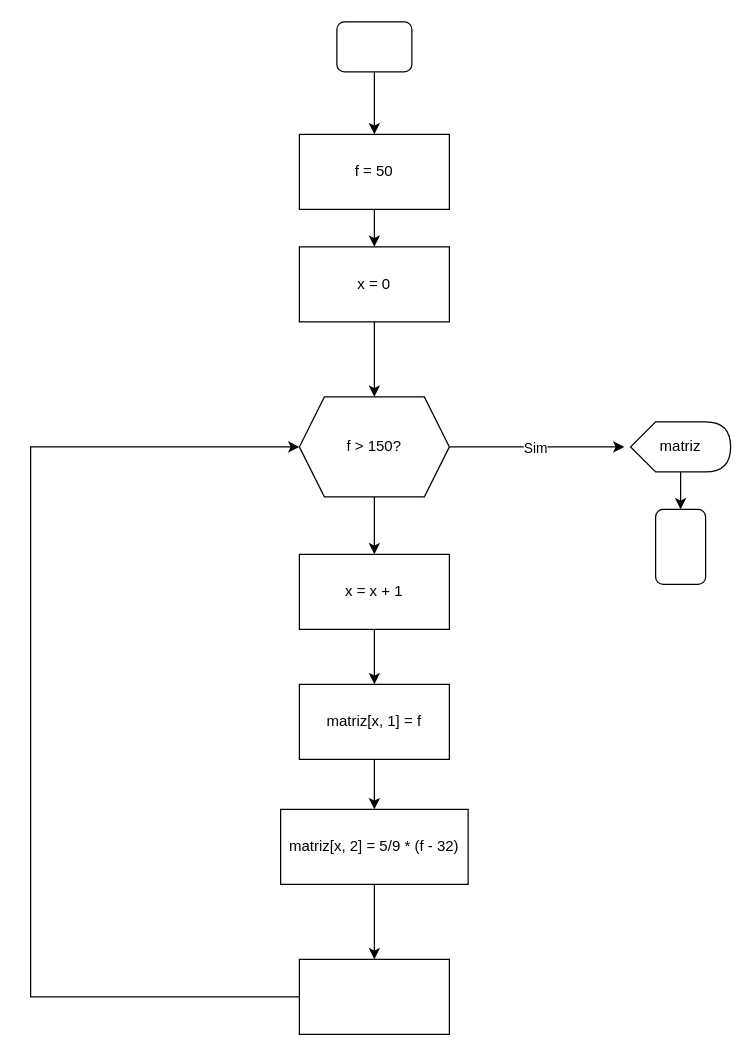
The diagram is 753 pixels wide and 1056 high, and some of its shapes have lost their labels. Here are the shapes that lost their labels. From the top down, the box of each, then its label:
(336, 21, 412, 72): Início
(654, 508, 706, 584): Fim
(298, 958, 449, 1034): f = f + 1
